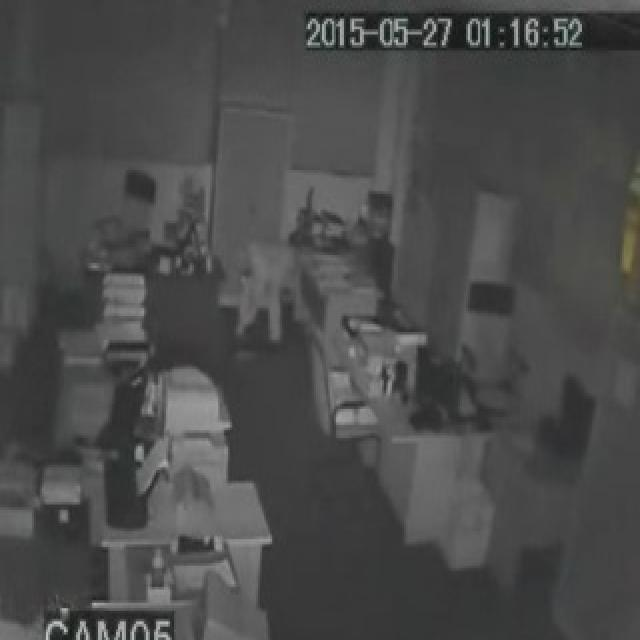thief: (232, 234, 291, 348)
